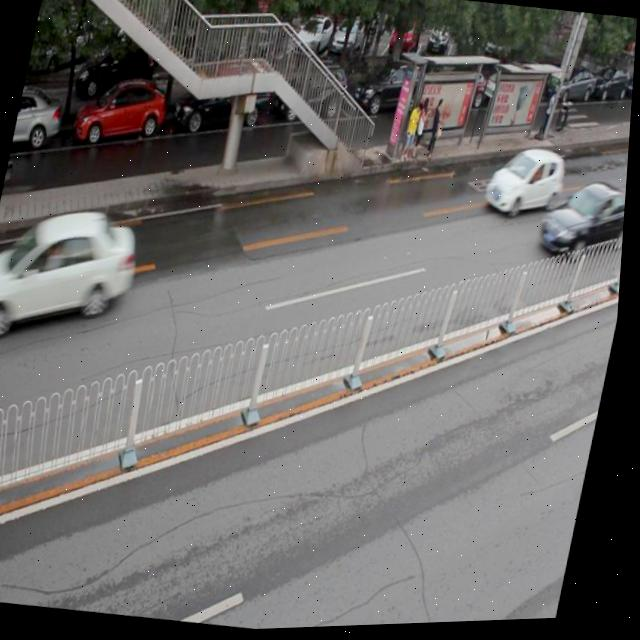car: (0, 197, 147, 352), (173, 52, 277, 137), (73, 75, 173, 157), (539, 178, 630, 265), (484, 145, 570, 225), (273, 58, 355, 131), (350, 57, 433, 127), (13, 86, 69, 155)
